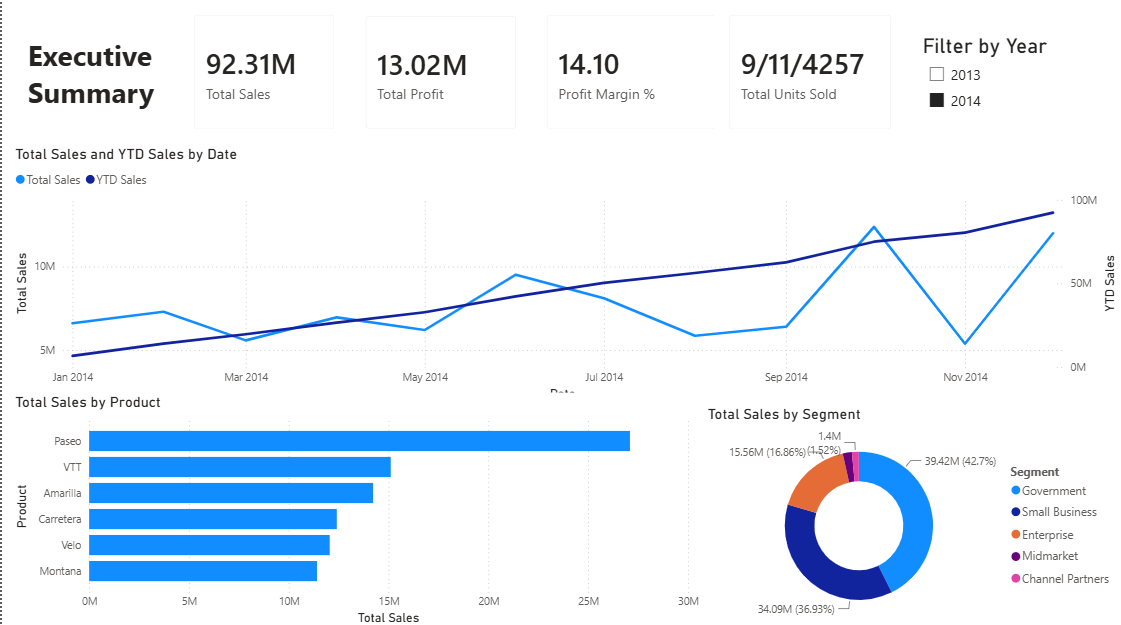

What the dashboard file says about the page in this screenshot:
{"tool":"powerbi","page":{"name":"Executive Summary","canvas":[1280,720],"ordinal":0},"visuals":[{"type":"cardVisual","fields":{"Data":["financials.Total Sales"]},"box":[203.4,0,194.7,165.2],"z":0},{"type":"cardVisual","fields":{"Data":["financials.Total Profit"]},"box":[398.2,1.7,206.9,163.4],"z":1000},{"type":"cardVisual","fields":{"Data":["financials.Profit Margin %"]},"box":[605.1,0,227.8,165.2],"z":2000},{"type":"cardVisual","fields":{"Data":["financials.Total Units Sold"]},"box":[813.7,0,219.1,165.2],"z":3000},{"type":"lineChart","fields":{"Category":["financials.Date.Variation.Date Hierarchy.Month"],"Y":["financials.Total Sales"],"Y2":["financials.YTD Sales"]},"box":[10.4,165.2,1269.2,297.3],"z":4000},{"type":"barChart","fields":{"Category":["financials.Product"],"Y":["financials.Total Sales"]},"box":[10.4,448.6,791.1,271.2],"z":5000},{"type":"donutChart","fields":{"Category":["financials.Segment"],"Y":["financials.Total Sales"]},"box":[801.5,462.5,478.1,257.3],"z":6000},{"type":"slicer","title":"Filter by Year","fields":{"Values":["financials.Year"]},"box":[1046.7,38.3,233,126.9],"z":7000},{"type":"textbox","box":[24.3,1.7,179.1,163.4],"z":8000}]}

Visuals, with their boxes in screenshot pixels (x1, y1, x2, y2), scaled from the page's 1280x720 canvas onto the 1121x625 screenshot:
cardVisual - financials.Total Sales: 178/0/349/143
cardVisual - financials.Total Profit: 349/1/530/143
cardVisual - financials.Profit Margin %: 530/0/729/143
cardVisual - financials.Total Units Sold: 713/0/905/143
lineChart - financials.Date.Variation.Date Hierarchy.Month x financials.Total Sales: 9/143/1120/401
barChart - financials.Product x financials.Total Sales: 9/389/702/624
donutChart - financials.Segment x financials.Total Sales: 702/401/1120/624
"Filter by Year" slicer: 917/33/1120/143
textbox: 21/1/178/143
